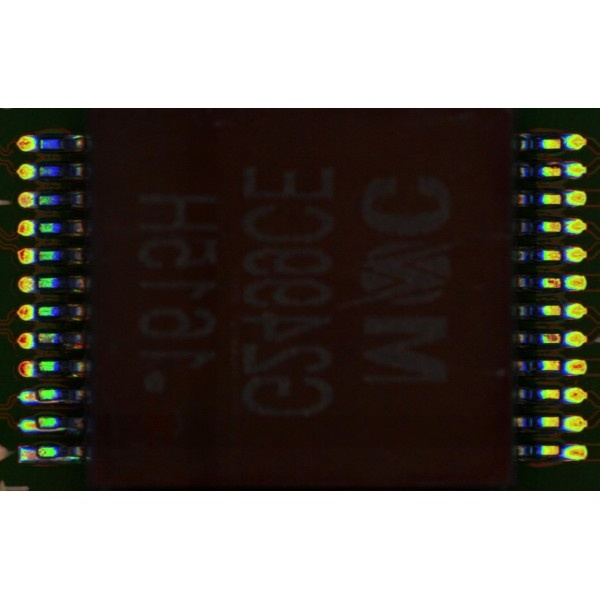Bad_podu: (33, 391, 44, 401), (33, 449, 45, 458), (32, 420, 44, 429)
Bad_qiaojiao: (38, 457, 81, 461), (39, 427, 70, 432), (39, 399, 67, 404)
